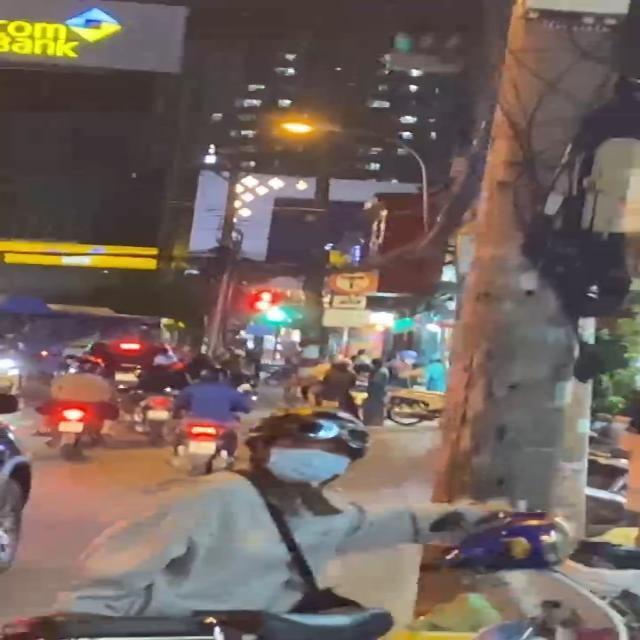137-cam-re-trai-va-re-phai: (327, 266, 378, 294)
